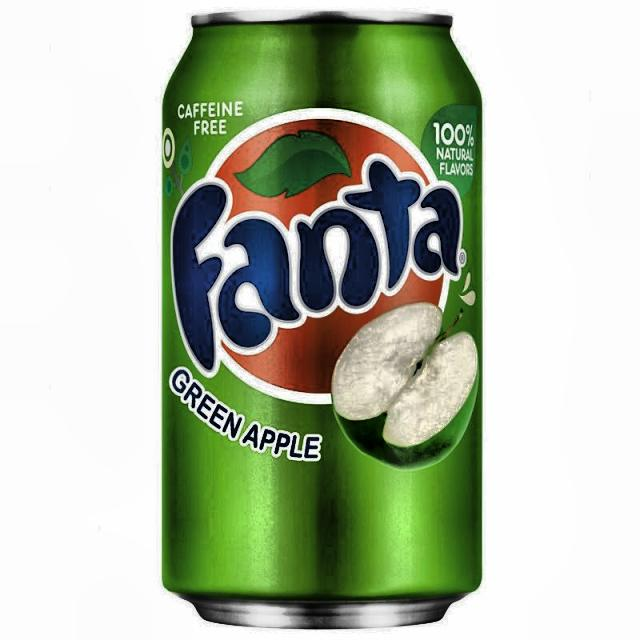Cans: (138, 6, 496, 640)
